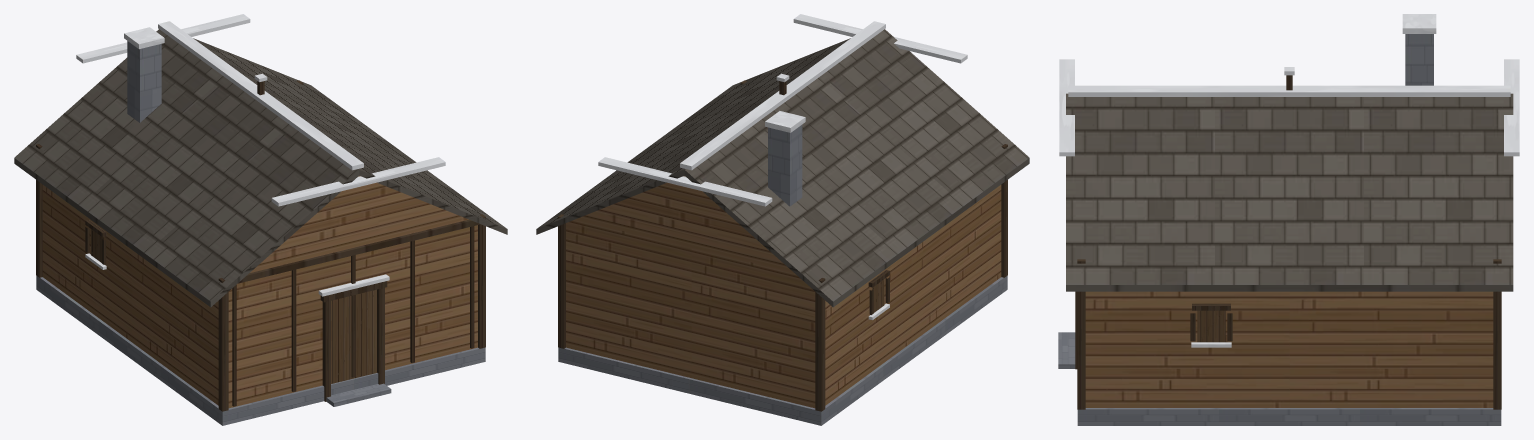
The model's file is ae_snow_wood_large_barn_lod0.glb.
3 renders of one model, left to right at view 1: azimuth 30°, elevation 25°; view 2: azimuth 150°, elevation 25°; view 3: azimuth 270°, elevation 25°, orthographic. The views are drawn at different scales.
Parts seen in each view (by area): view 1: ae_snow_wood_large_barn_lod0; view 2: ae_snow_wood_large_barn_lod0; view 3: ae_snow_wood_large_barn_lod0.
Boxes of the visible parts, <box> form: ae_snow_wood_large_barn_lod0: <box>14,14,507,425</box>; ae_snow_wood_large_barn_lod0: <box>536,14,1029,425</box>; ae_snow_wood_large_barn_lod0: <box>1058,14,1519,425</box>.
Bounding box in the file's own units: 7.5 × 6.34 × 8.87.
1 material, 1 textured.
